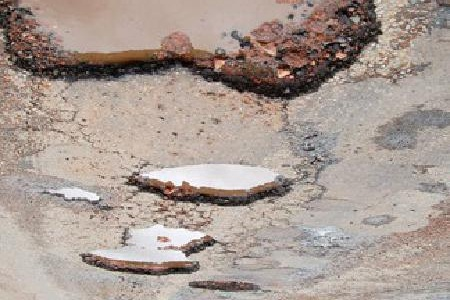pothole: (0, 0, 382, 102), (120, 164, 295, 210), (78, 224, 217, 277), (43, 188, 103, 206), (187, 279, 263, 293)
